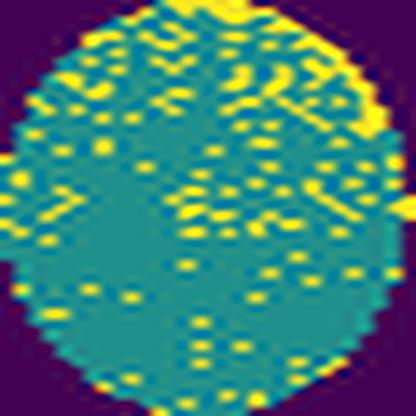Edge-Loc: (156, 0, 396, 140)
